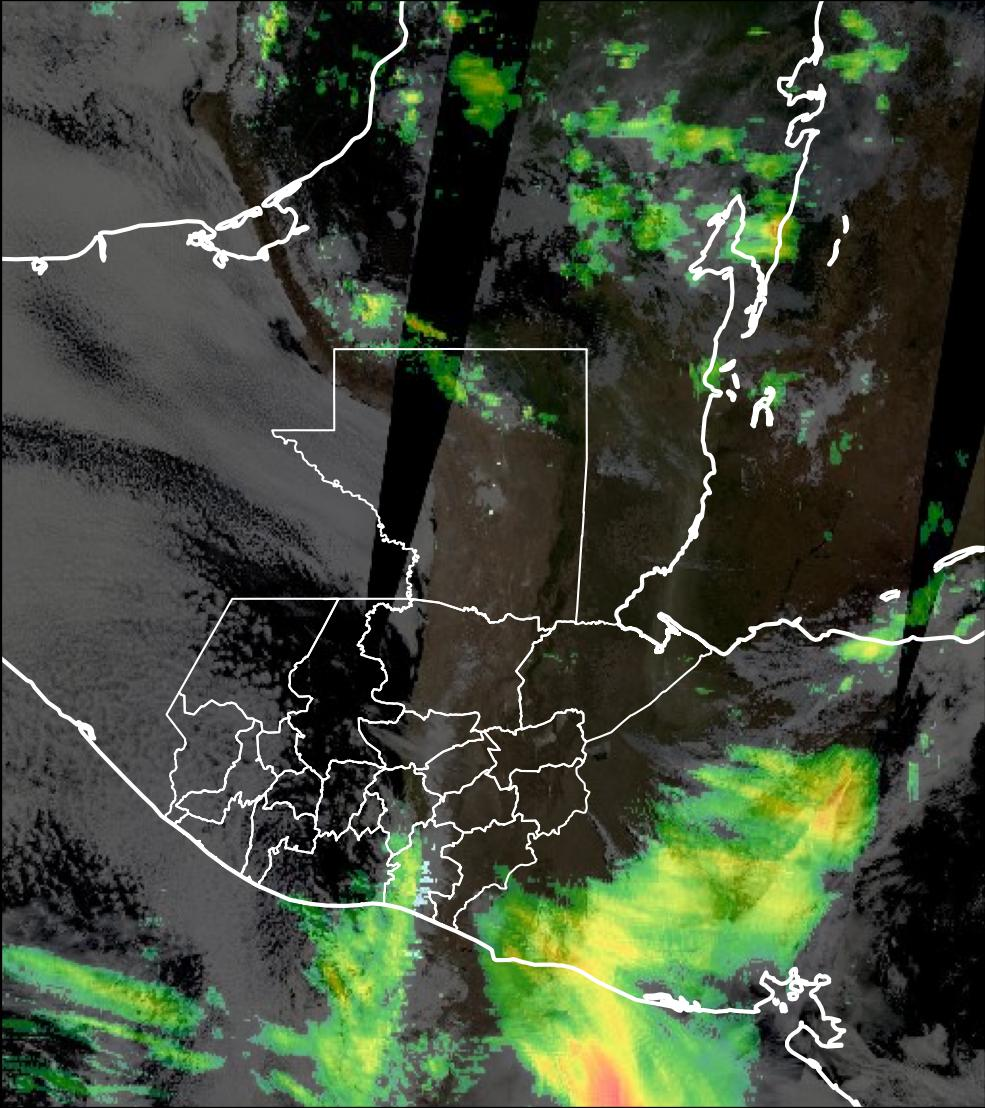precipitacion: (524, 1017, 656, 1108)
